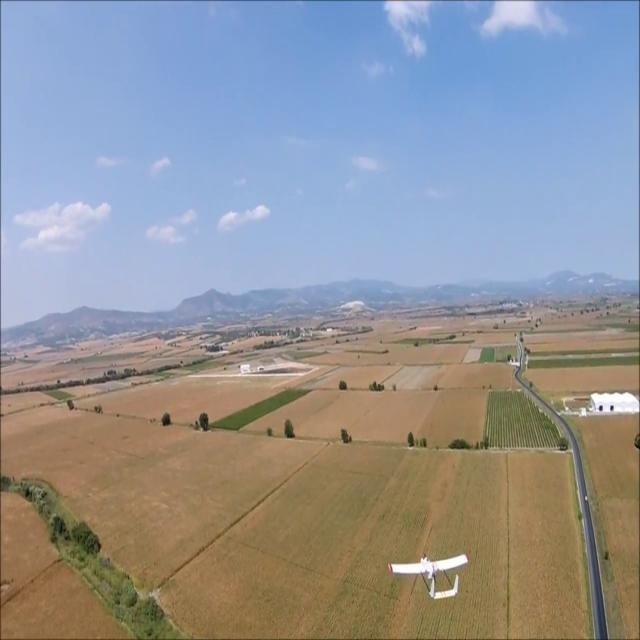iha: (415, 551, 438, 604)
